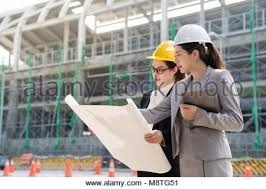helmet: (174, 25, 213, 46), (147, 41, 175, 63)
person with partial safety: (169, 23, 240, 178), (143, 39, 178, 156)
